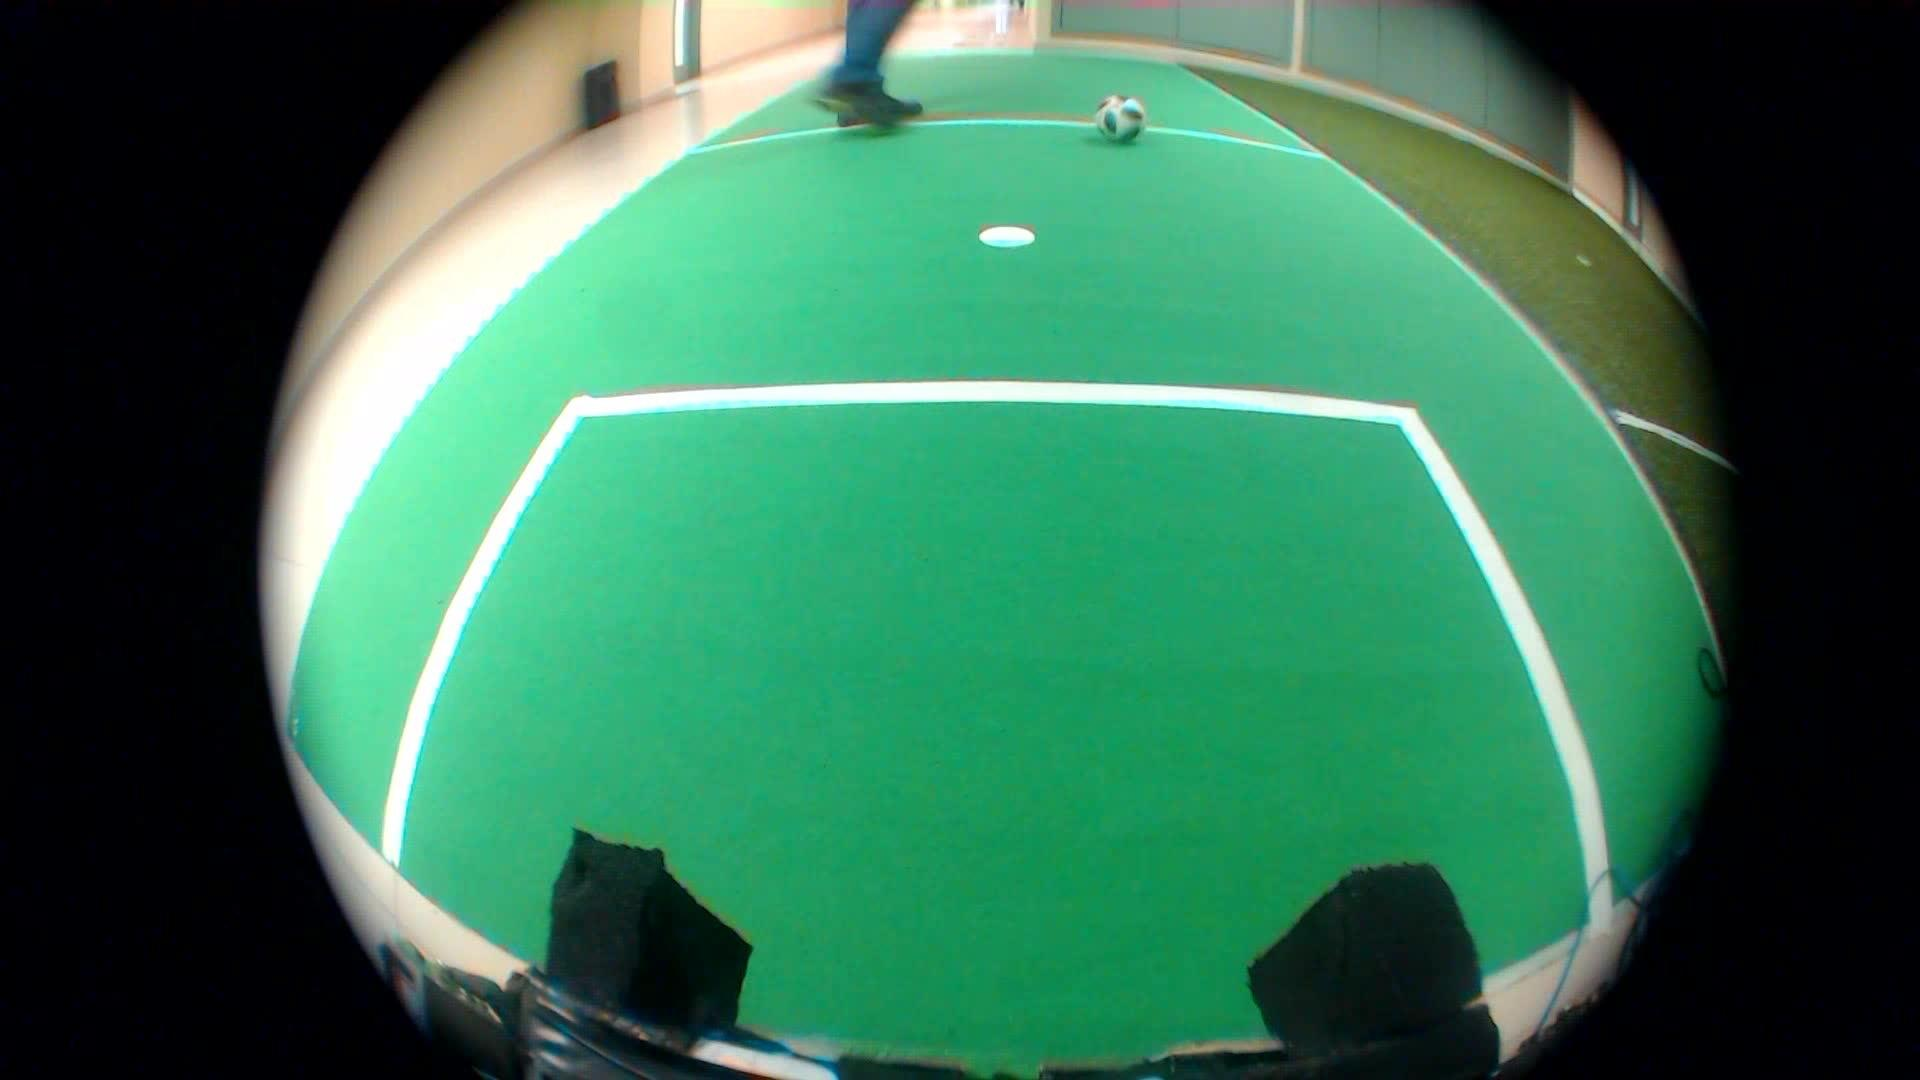ball: (1084, 84, 1149, 152)
